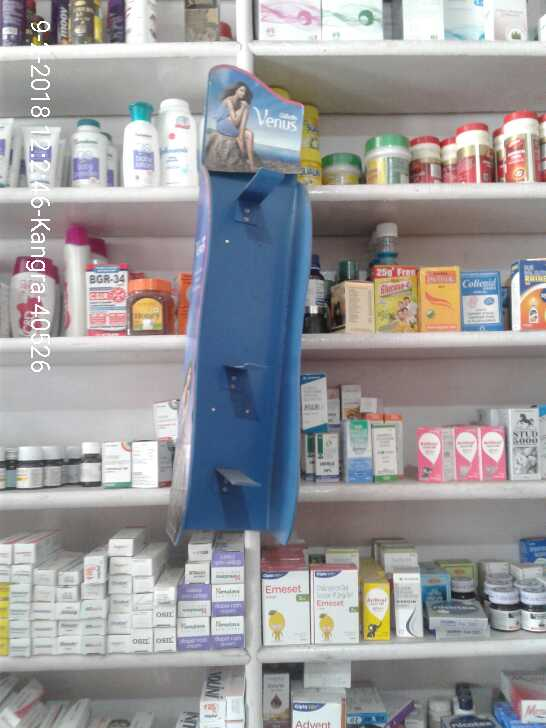reject: (256, 195, 378, 361)
